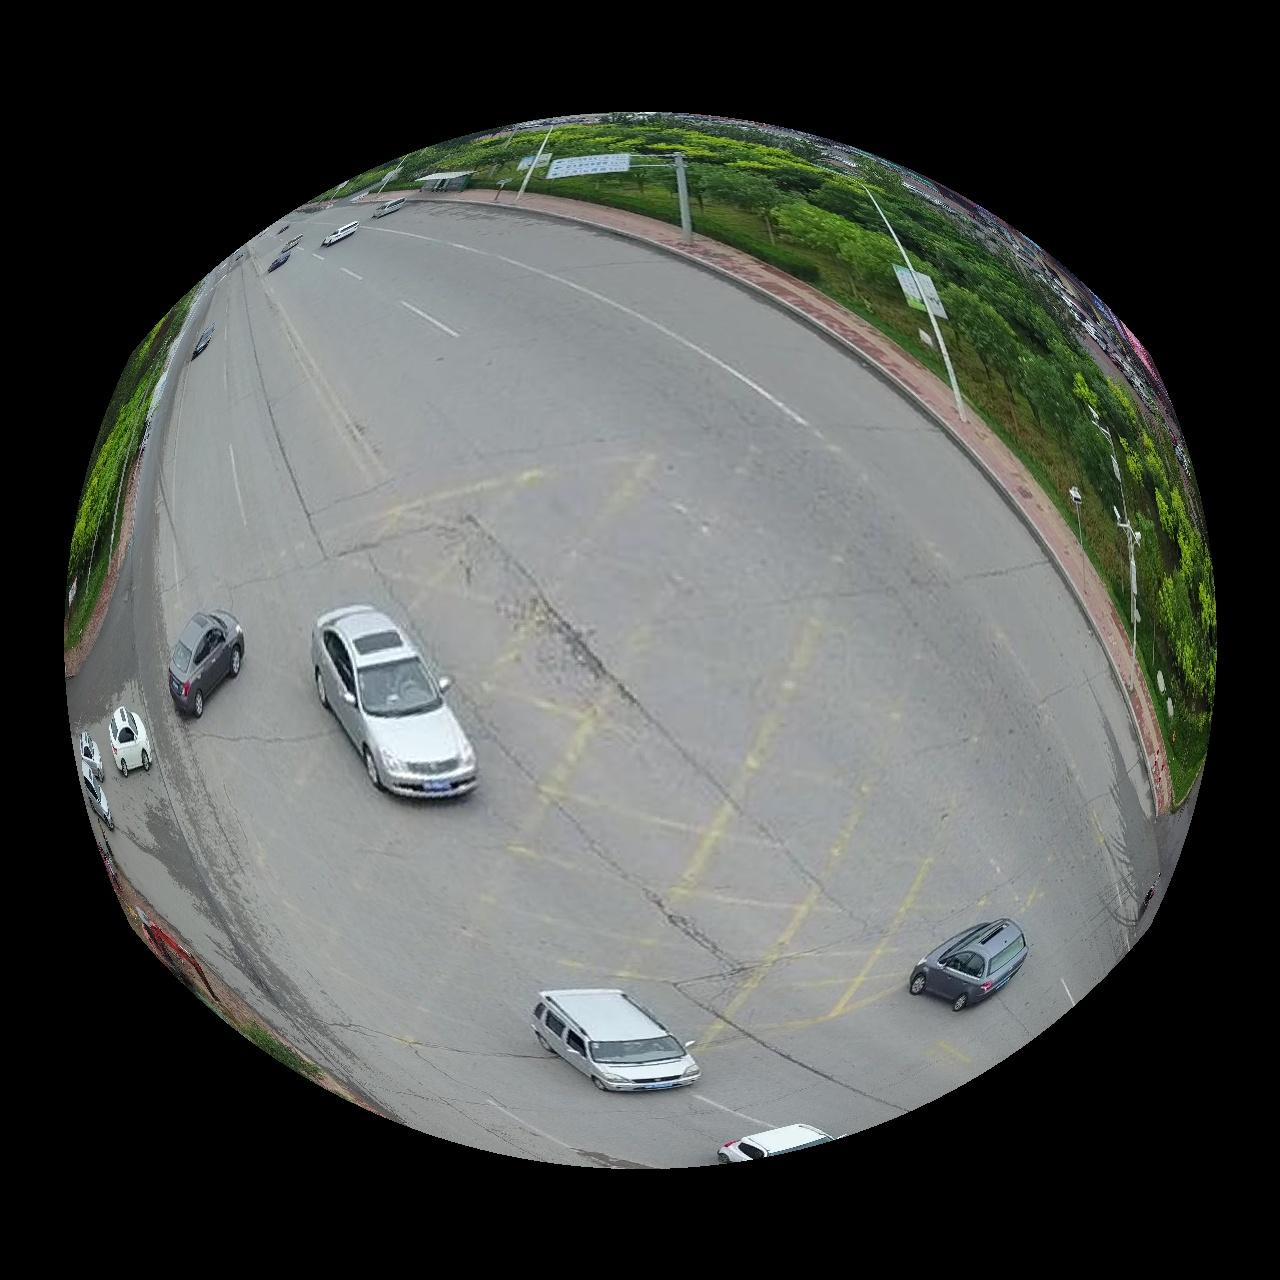cars: (310, 605, 478, 800), (531, 991, 701, 1094), (911, 920, 1031, 1012), (167, 609, 244, 718), (718, 1126, 836, 1166), (107, 707, 152, 776)
trees: (347, 114, 1217, 792)
